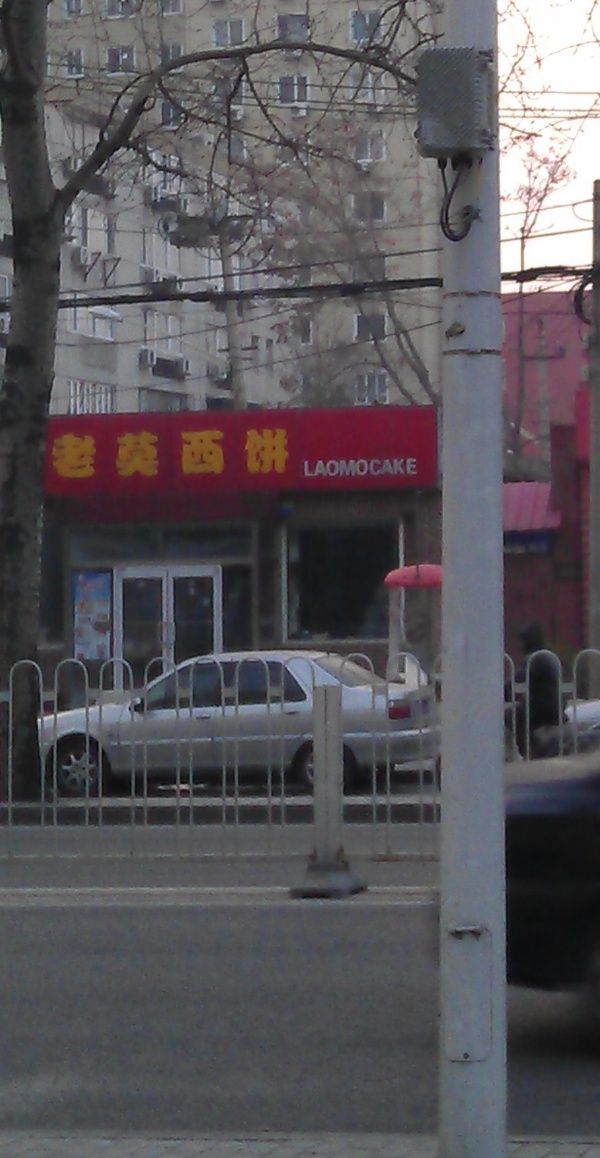text: (273, 426, 289, 480), (65, 426, 80, 480), (81, 426, 96, 480), (97, 426, 112, 480), (113, 426, 128, 480), (129, 426, 144, 480), (145, 426, 160, 480), (161, 426, 176, 480), (177, 426, 192, 480), (193, 426, 208, 480), (209, 426, 224, 480), (225, 426, 240, 480), (241, 426, 256, 480), (257, 426, 272, 480), (50, 426, 64, 480), (305, 457, 320, 479), (321, 457, 336, 479), (337, 457, 352, 479), (353, 457, 368, 479), (369, 457, 384, 479), (385, 457, 400, 479), (401, 457, 416, 479), (417, 457, 419, 479)
